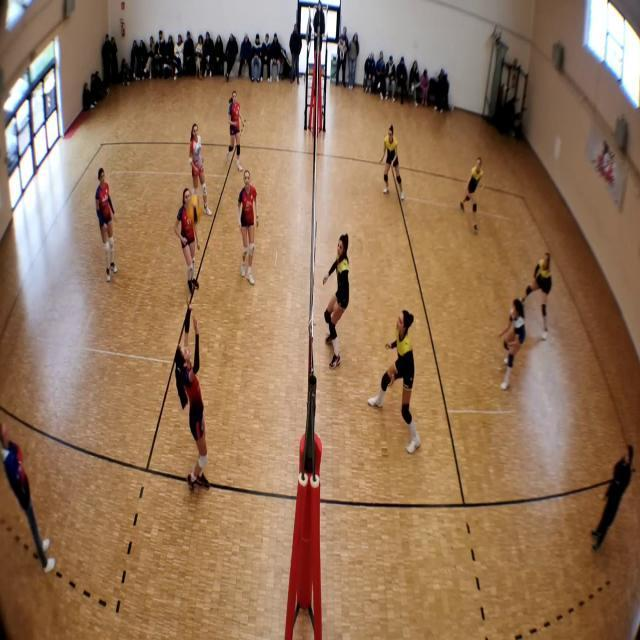volleyball: (188, 195, 202, 223)
